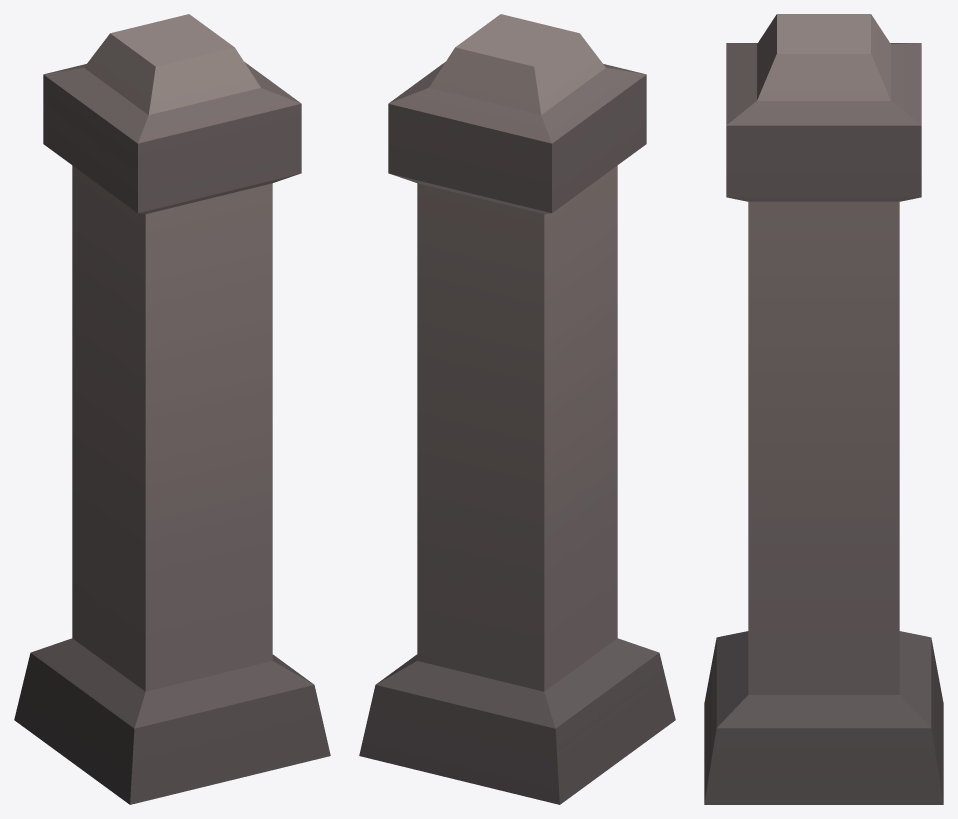
Rendered from Pillar.obj.
3 views of the same model, side by side, from view 1: azimuth 30°, elevation 25°; view 2: azimuth 150°, elevation 25°; view 3: azimuth 270°, elevation 25° (orthographic). The views are drawn at different scales.
Visible parts, largest first — view 1: {mesh}Pillar_Cube.021; view 2: {mesh}Pillar_Cube.021; view 3: {mesh}Pillar_Cube.021.
Boxes of the visible parts, bbox=[...] form: {mesh}Pillar_Cube.021: bbox=[14, 14, 330, 804]; {mesh}Pillar_Cube.021: bbox=[359, 14, 675, 804]; {mesh}Pillar_Cube.021: bbox=[704, 14, 943, 804].
Size of the model in its own units: 18.9 by 62.77 by 18.9.
Materials: 1 (1 with a texture image).
